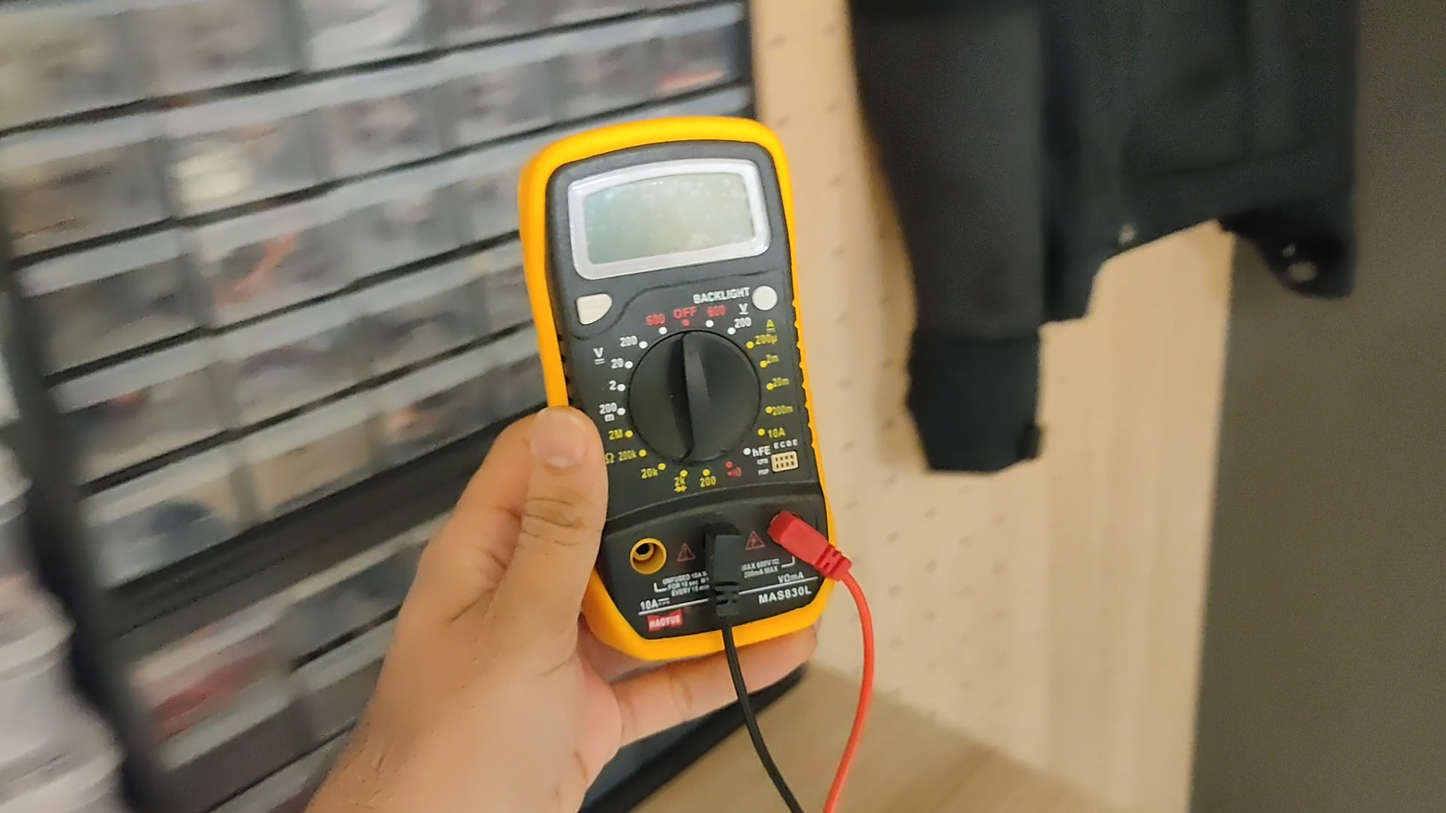multimeter: (515, 142, 851, 669)
